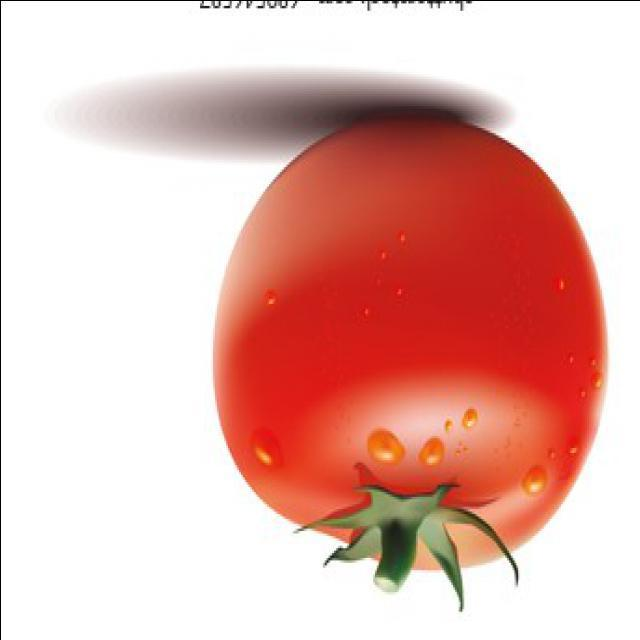Tomato: (211, 113, 611, 611)
